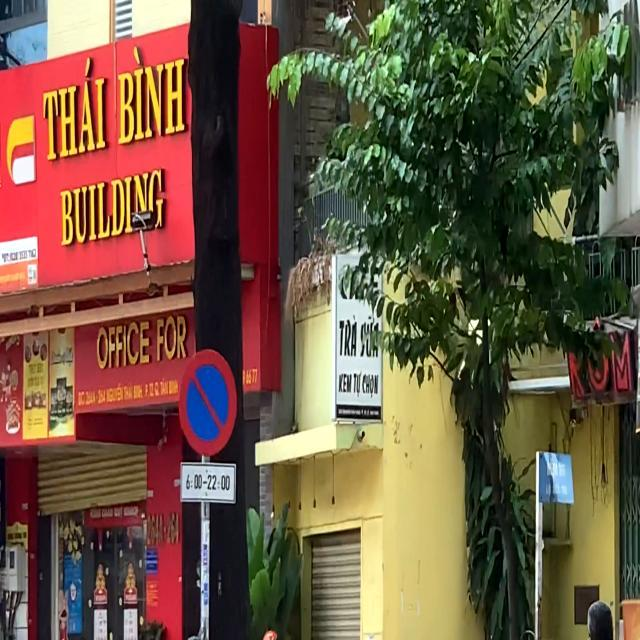P-131a: (175, 348, 238, 458)
